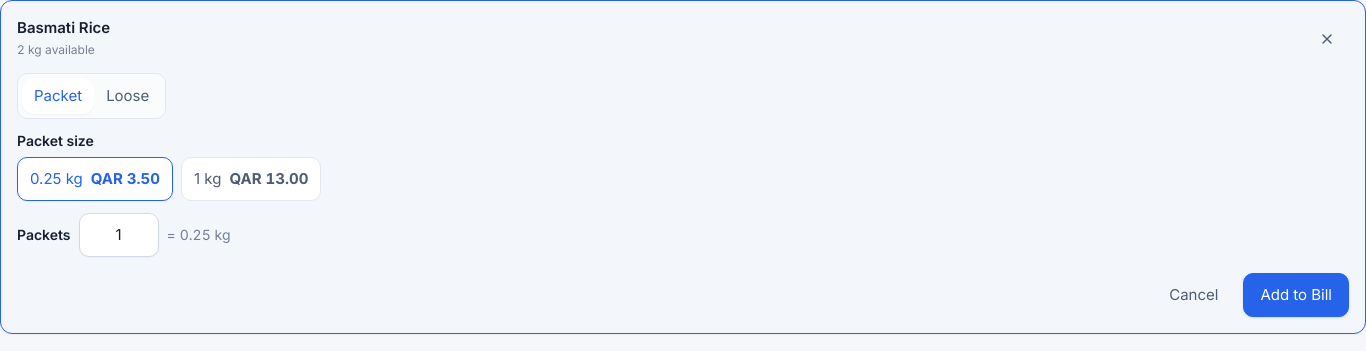
Test: PricingPanel › shows the stock a packet selection would consume
// 4 x the 0.25 kg default packet draws 1 kg from the shared pool.
Replace the text in the field labelled "Packets" with "4" at (119, 235), box x1=79 y1=213 x2=159 y2=257
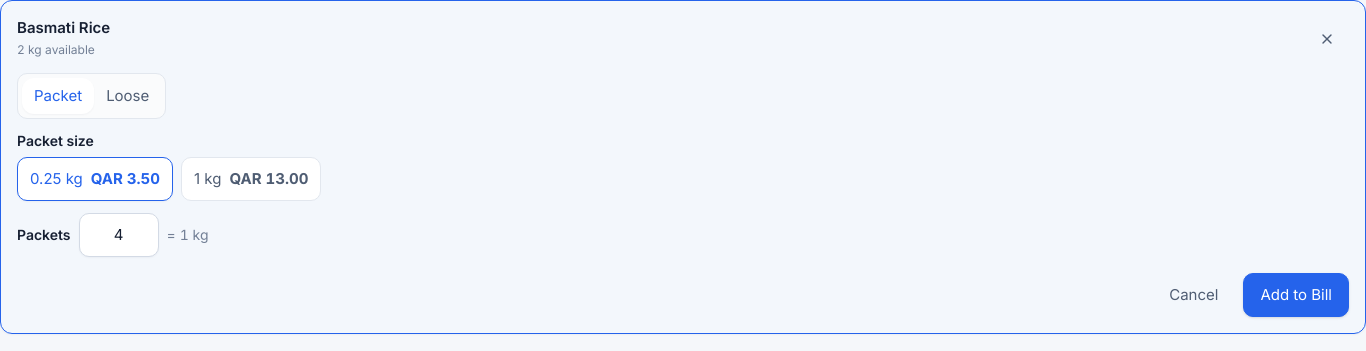
Expected: the element labelled "Packets" shows "= 1 kg", x1=17 y1=213 x2=209 y2=257
